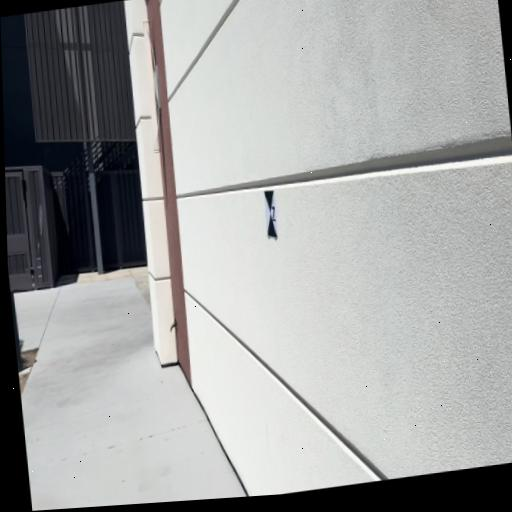target7: (264, 189, 279, 239)
